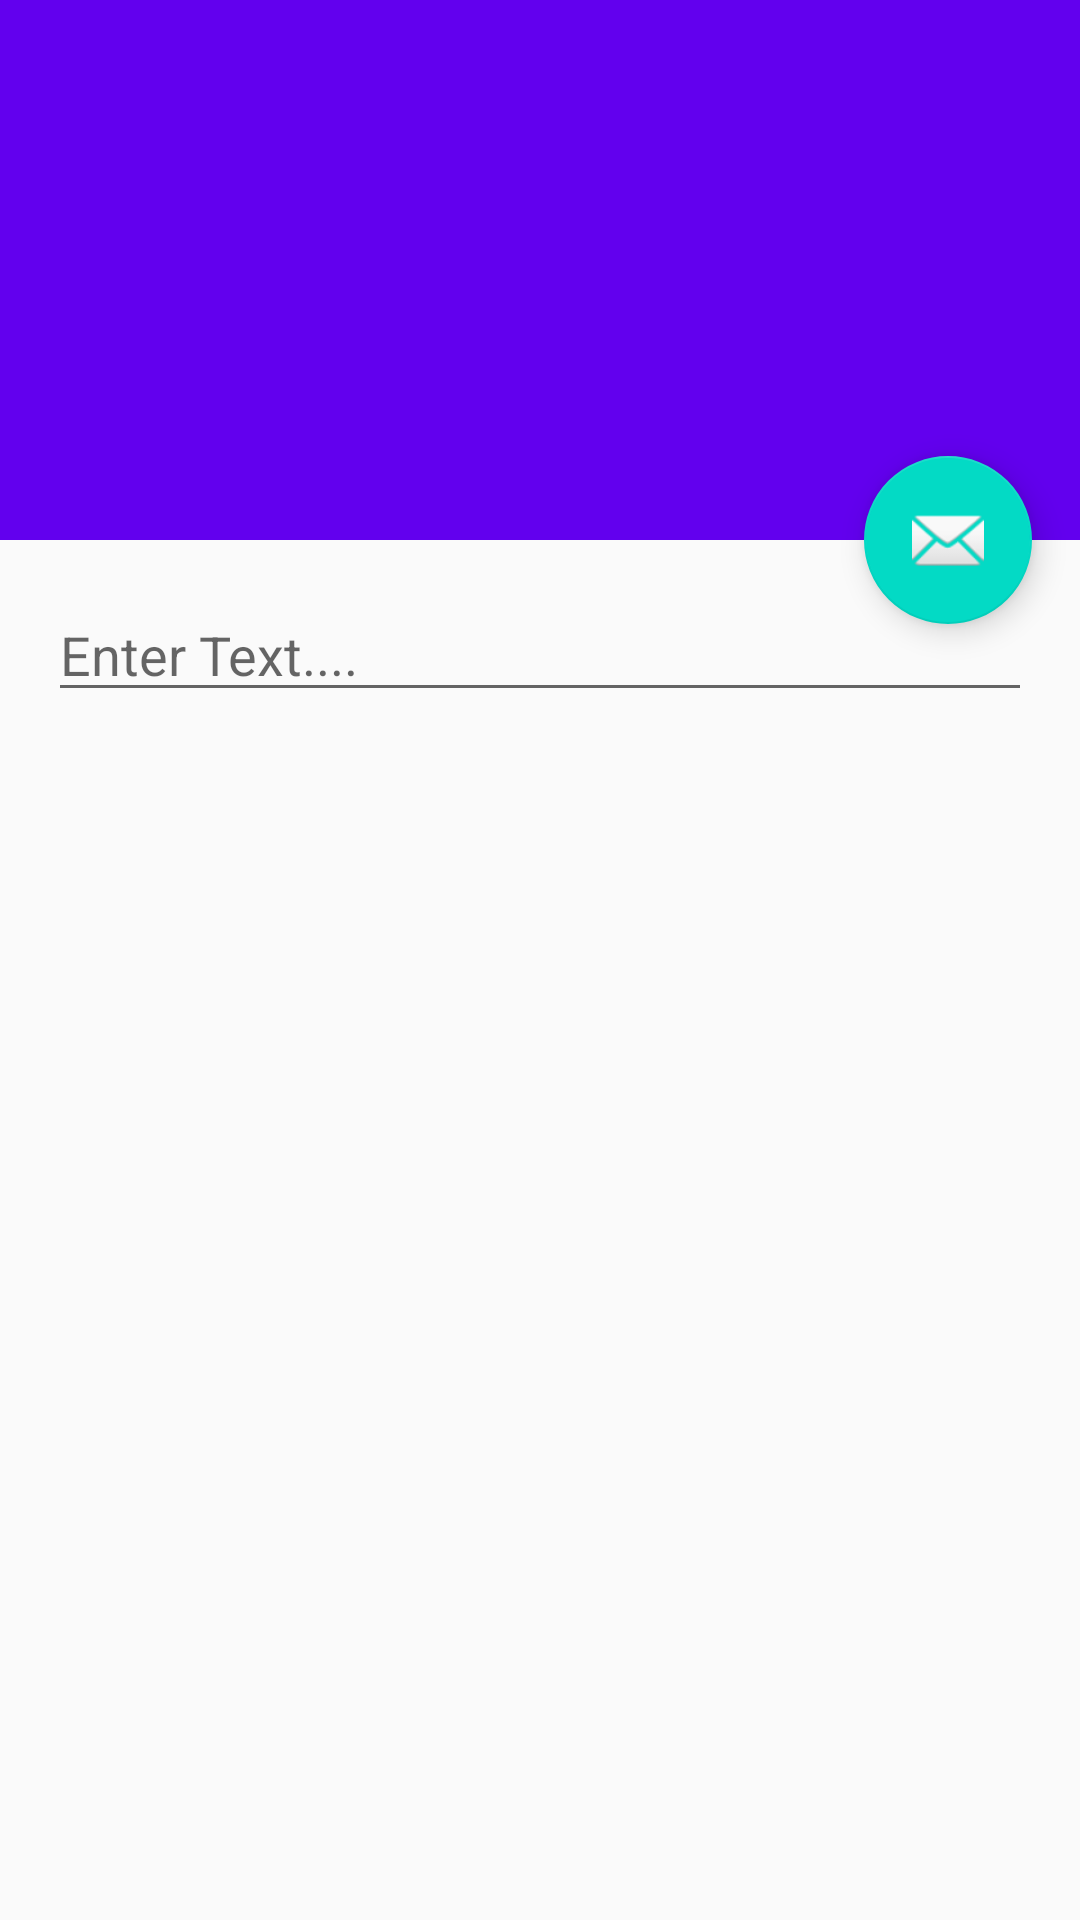

Point at icon controls on the screen. Image size 1080×1920, points as [x,y].
email: [948,540]
